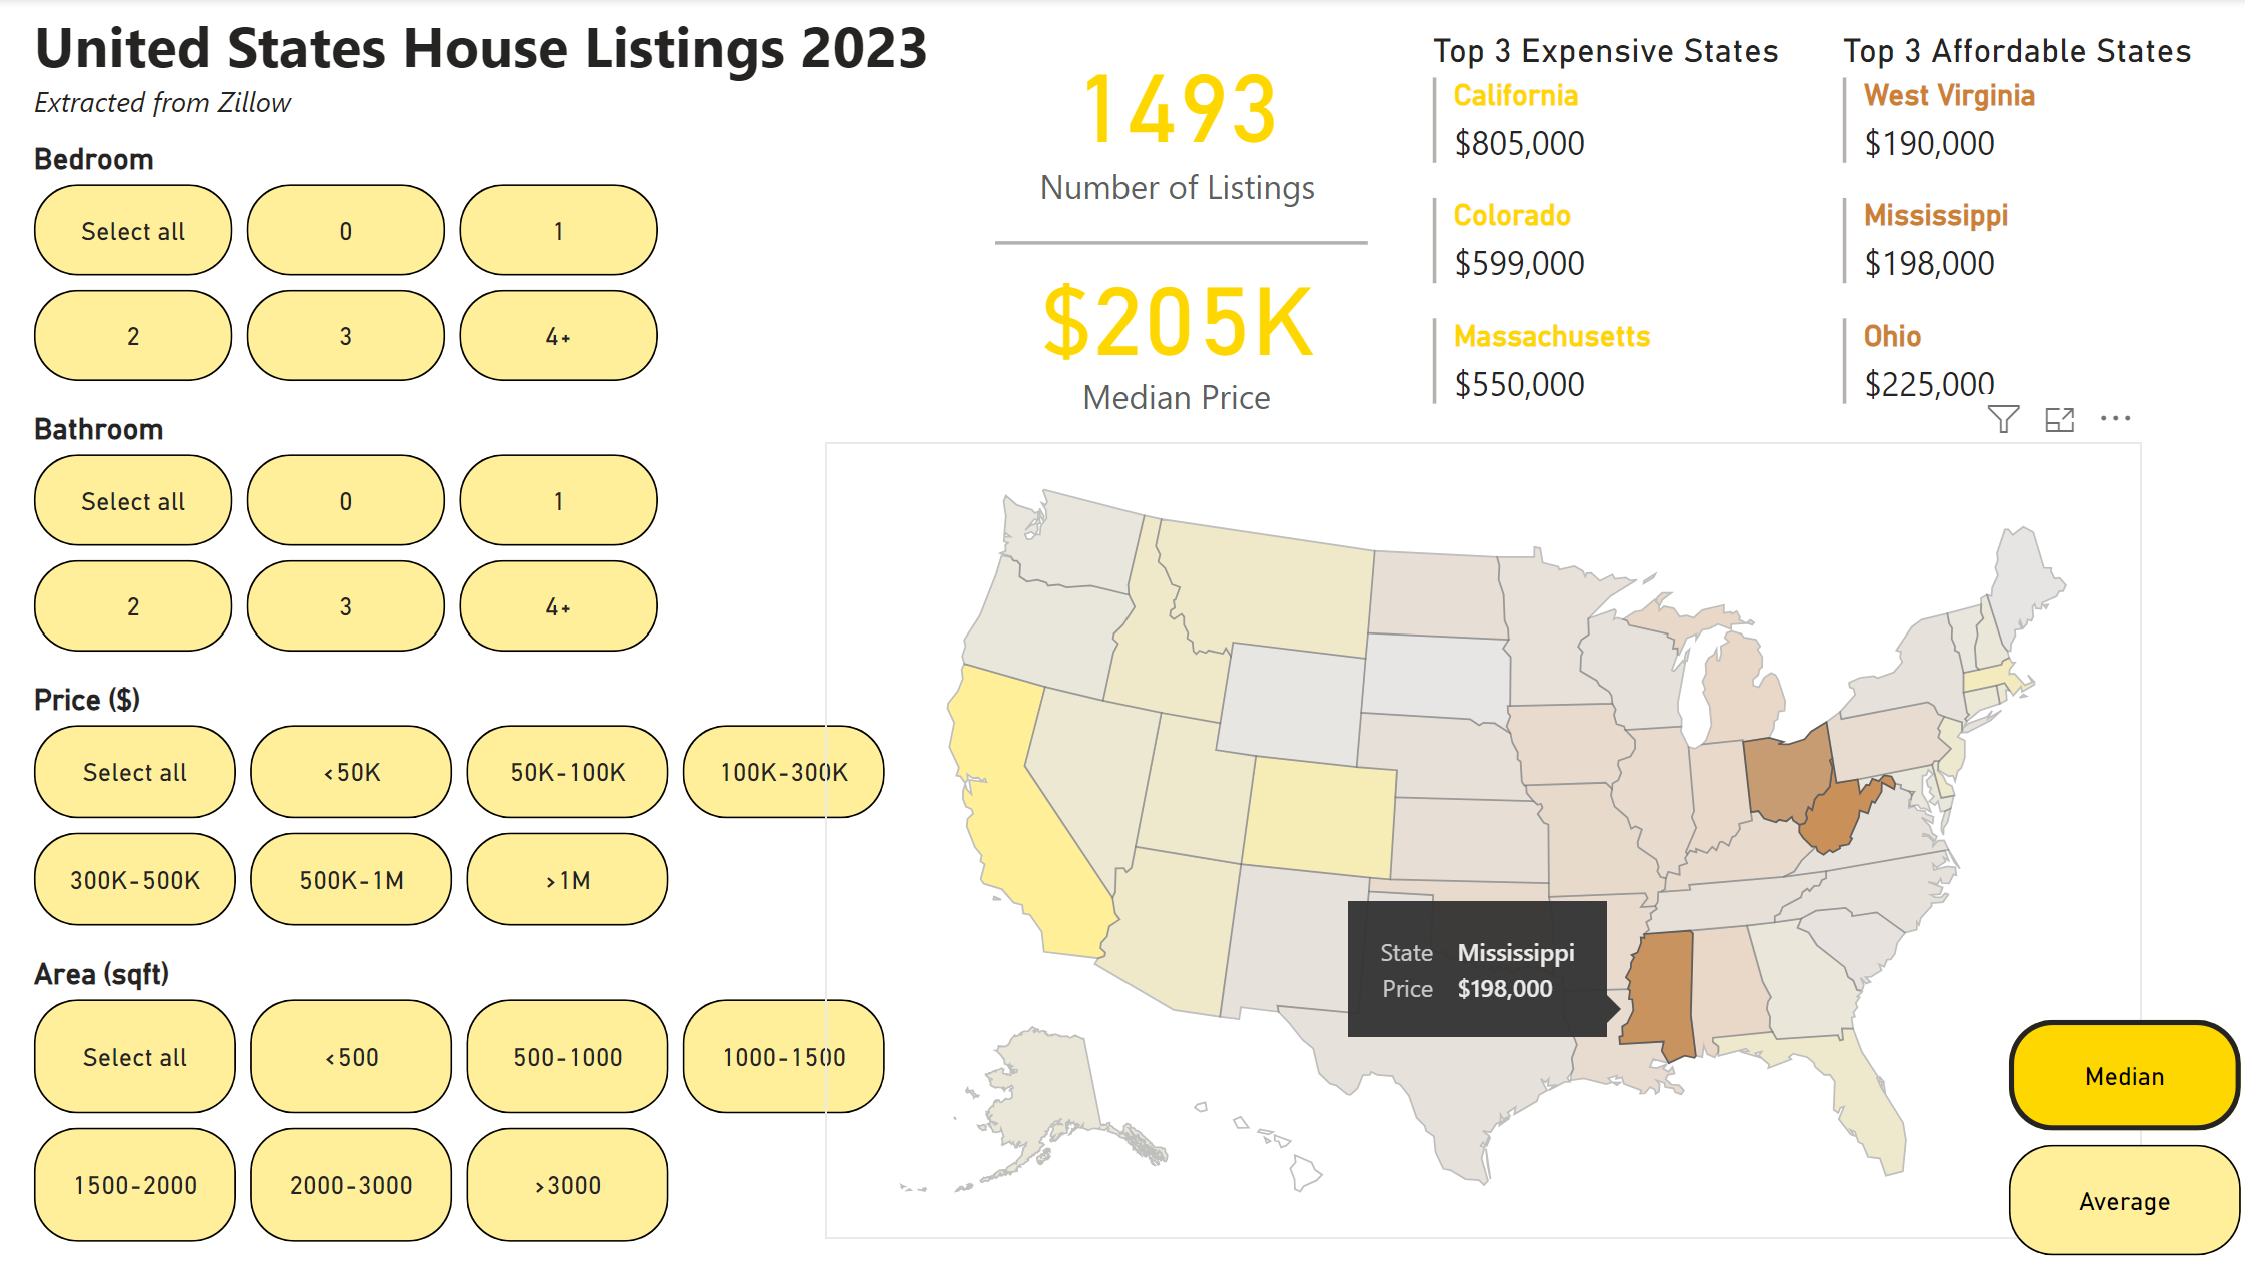

The dashboard page shown, as its layout file describes it:
{"tool":"powerbi","page":{"name":"Main","canvas":[1280,720],"ordinal":0},"visuals":[{"type":"multiRowCard","title":"Top 3 Expensive States","fields":{"Values":["cleaned_df.State Name","cleaned_df.Avg/Med Price"]},"box":[810,18.6,214.3,240],"z":0},{"type":"card","fields":{"Values":["cleaned_df.Avg/Med Price"]},"box":[562.4,123.8,215.7,127.5],"z":0,"group":"g3"},{"type":"multiRowCard","title":"Top 3 Affordable States","fields":{"Values":["cleaned_df.State Name","cleaned_df.Avg/Med Price"]},"box":[1042.9,18.6,214.3,240],"z":1000},{"type":"card","fields":{"Values":["cleaned_df.Avg/Med Title"]},"box":[562.4,212.7,214.8,31.7],"z":1000,"group":"g1"},{"type":"advancedSlicerVisual","title":"Price ($)","fields":{"Values":["cleaned_df.Price Class"]},"box":[14.8,389,494.8,143.3],"z":2000},{"type":"advancedSlicerVisual","fields":{"Values":["cleaned_df.Bedroom Class"]},"box":[14.3,81.4,365.7,142.9],"z":3000},{"type":"advancedSlicerVisual","fields":{"Values":["cleaned_df.Bathroom Class"]},"box":[14.3,235.7,365.7,142.9],"z":4000},{"type":"advancedSlicerVisual","fields":{"Values":["cleaned_df.Area Class"]},"box":[14.8,544.8,494.8,168.3],"z":5000},{"type":"card","fields":{"Values":["CountNonNull(cleaned_df.Price)"]},"box":[562.4,4.3,215.7,127.1],"z":6000,"group":"g2"},{"type":"shapeMap","fields":{"Value":["cleaned_df.Avg/Med Price"],"Category":["cleaned_df.State Name"]},"box":[470,252.9,748.6,452.9],"z":6000},{"type":"textbox","box":[14.3,0,532.9,85.7],"z":7000},{"type":"group","id":"g1","title":"Group 1","box":[562.4,61.1,215.7,190.2],"z":8000,"group":"g2"},{"type":"advancedSlicerVisual","fields":{"Values":["Calculation Methods.Cal Method"]},"box":[1137.1,575.7,142.9,144.3],"z":8000},{"type":"group","id":"g2","title":"Group 3","box":[562.4,4.3,215.7,246.9],"z":9000},{"type":"group","id":"g3","title":"Group 2","box":[562.4,61.1,215.7,190.2],"z":11001,"group":"g1"},{"type":"shape","box":[566.7,61.1,211.4,155.7],"z":11001,"group":"g3"}]}

Visuals, with their boxes in screenshot pixels (x1, y1, x2, y2), scaled from the page's 1280x720 canvas onto the 2246x1262 screenshot:
"Top 3 Expensive States" multiRowCard: 1421,33,1797,453
card - cleaned_df.Avg/Med Price: 987,217,1365,440
"Top 3 Affordable States" multiRowCard: 1830,33,2206,453
card - cleaned_df.Avg/Med Title: 987,373,1364,428
"Price ($)" advancedSlicerVisual: 26,682,894,933
advancedSlicerVisual - cleaned_df.Bedroom Class: 25,143,667,393
advancedSlicerVisual - cleaned_df.Bathroom Class: 25,413,667,664
advancedSlicerVisual - cleaned_df.Area Class: 26,955,894,1250
card - CountNonNull(cleaned_df.Price): 987,8,1365,230
shapeMap - cleaned_df.Avg/Med Price x cleaned_df.State Name: 825,443,2138,1237
textbox: 25,0,960,150
"Group 1" group: 987,107,1365,440
advancedSlicerVisual - Calculation Methods.Cal Method: 1995,1009,2245,1261
"Group 3" group: 987,8,1365,440
"Group 2" group: 987,107,1365,440
shape: 994,107,1365,380
